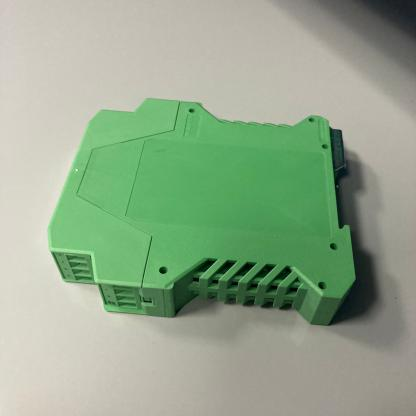SP0000011: (16, 52, 390, 364)
